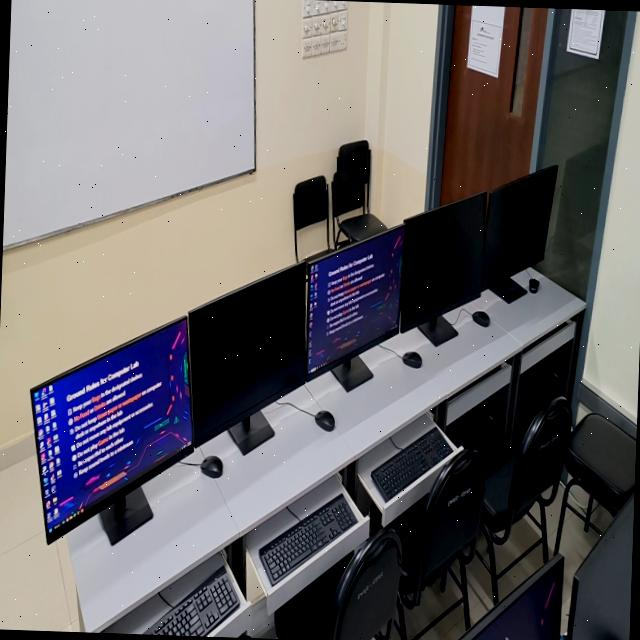Chair: (467, 396, 571, 603), (387, 448, 484, 640), (274, 525, 401, 640), (554, 413, 636, 553), (331, 140, 386, 248), (293, 175, 332, 262)
Cpu: (448, 405, 497, 438)
Keyboard: (259, 494, 356, 584), (140, 565, 239, 636), (370, 428, 452, 501)
Monitor: (31, 316, 193, 544), (188, 262, 306, 455), (306, 227, 403, 391), (399, 193, 486, 346), (565, 489, 634, 640), (481, 166, 557, 303), (457, 553, 563, 640)
Mouse: (200, 455, 222, 478), (315, 410, 334, 431), (402, 351, 421, 368), (471, 311, 489, 326), (528, 278, 539, 293)
